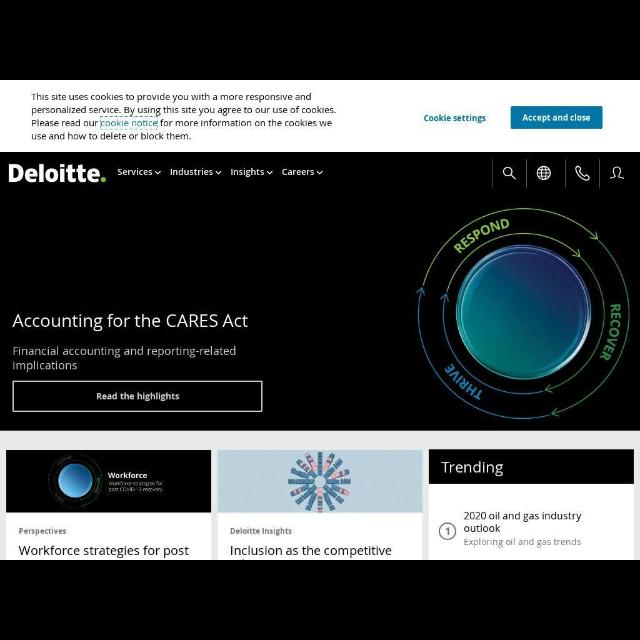button: (600, 160, 640, 188), (526, 160, 566, 186), (493, 158, 527, 188), (566, 159, 600, 187)
icon: (501, 166, 519, 182), (536, 166, 552, 182), (574, 165, 590, 181), (610, 166, 624, 182), (266, 170, 276, 176), (154, 170, 162, 176), (216, 170, 222, 174), (316, 170, 324, 173)
image: (415, 209, 631, 419), (218, 450, 422, 512), (7, 451, 211, 512), (9, 162, 107, 185)
spinner: (169, 166, 223, 178), (282, 166, 324, 178), (230, 167, 274, 177), (116, 168, 164, 176)
text: (31, 91, 337, 139), (12, 344, 238, 372), (11, 312, 250, 330), (464, 508, 582, 534), (17, 544, 190, 558), (229, 546, 393, 558), (466, 538, 582, 548), (442, 459, 504, 477), (422, 112, 488, 126), (522, 112, 592, 124), (96, 392, 180, 402), (230, 528, 294, 536), (18, 526, 66, 536), (170, 167, 212, 177), (282, 166, 316, 178), (230, 168, 262, 176), (116, 169, 152, 175)
textbutton: (13, 382, 260, 412), (512, 107, 602, 129)
